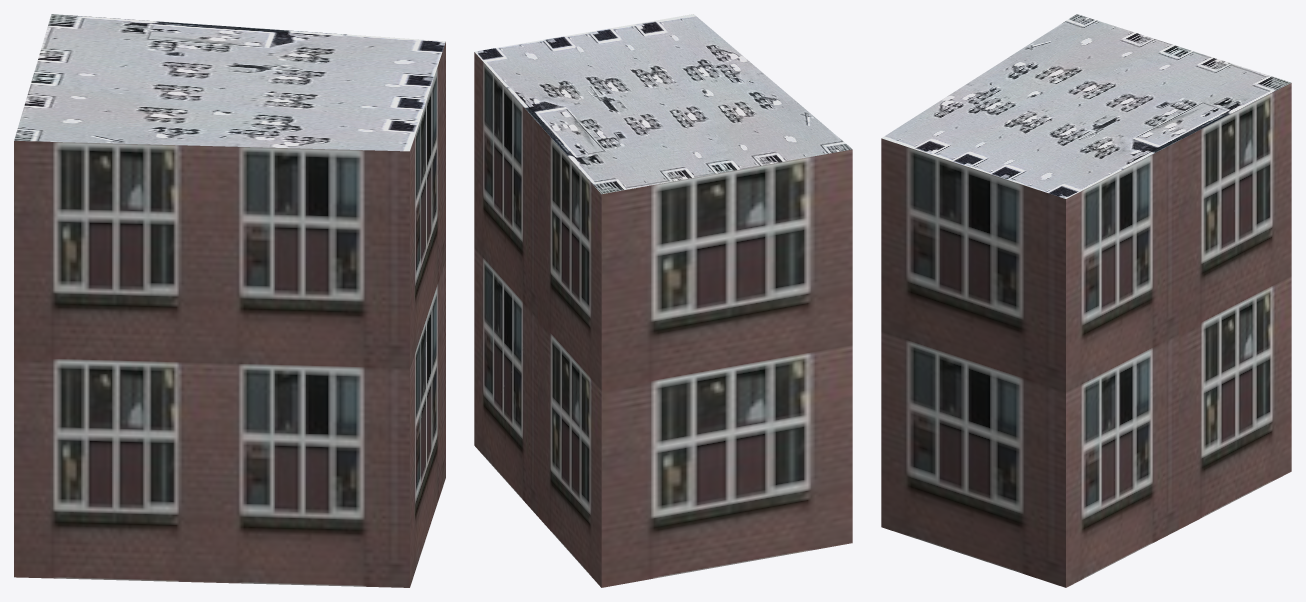
The model's file is ResTex__5116.fbx.
3 renders of one model, left to right at view 1: azimuth 30°, elevation 25°; view 2: azimuth 150°, elevation 25°; view 3: azimuth 270°, elevation 25°, orthographic. The views are drawn at different scales.
Parts seen in each view (by area): view 1: CityEngineMaterial_12_m, CityEngineMaterial_m; view 2: CityEngineMaterial_12_m, CityEngineMaterial_m; view 3: CityEngineMaterial_12_m, CityEngineMaterial_m.
Part boxes in pixels (bbox=[...]): CityEngineMaterial_12_m: bbox=[14, 42, 445, 587]; CityEngineMaterial_m: bbox=[14, 14, 445, 151]; CityEngineMaterial_12_m: bbox=[474, 52, 852, 587]; CityEngineMaterial_m: bbox=[474, 14, 852, 194]; CityEngineMaterial_12_m: bbox=[881, 83, 1291, 587]; CityEngineMaterial_m: bbox=[881, 14, 1290, 198].
Size of the model in its own units: 6.13 by 6 by 5.74.
Materials: 2 (2 with a texture image).
